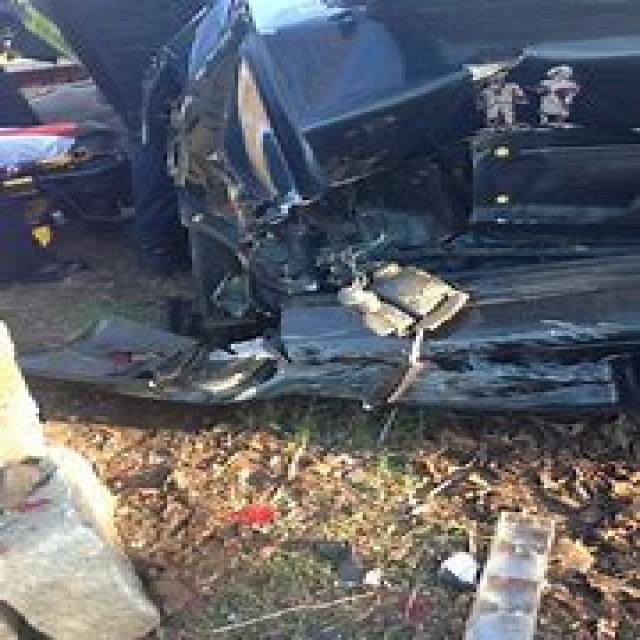Accident: (57, 27, 615, 422)
